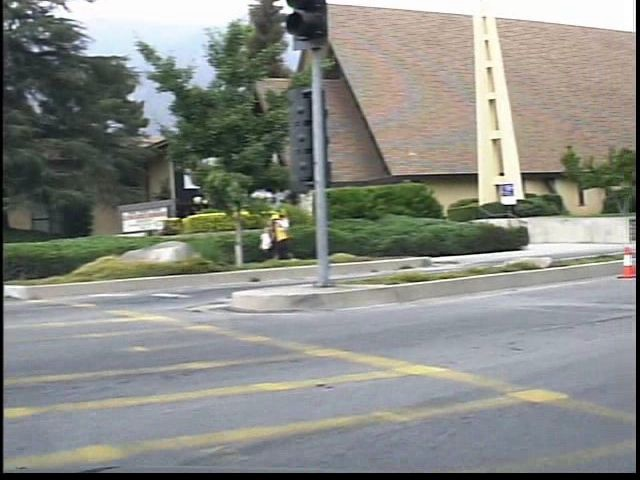person: (278, 208, 311, 266)
